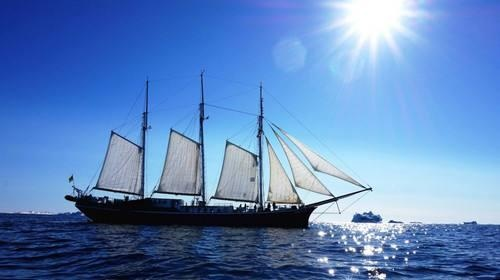fanchuan: (62, 71, 375, 229)
